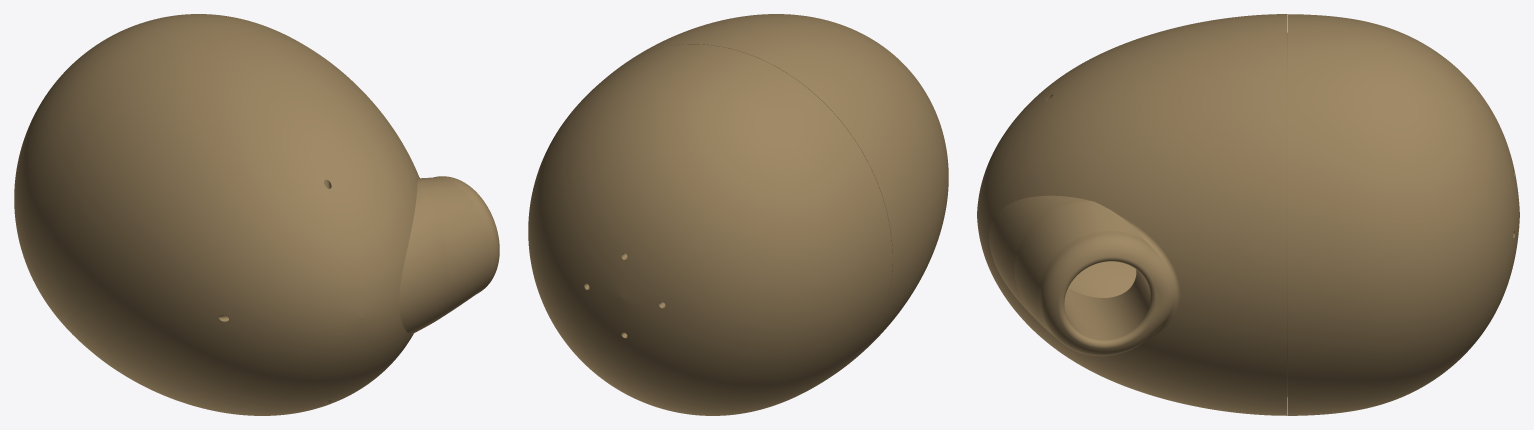
Rendered from nestegg.glb.
The picture shows the model from 3 angles, left to right: view 1: azimuth 30°, elevation 25°; view 2: azimuth 150°, elevation 25°; view 3: azimuth 270°, elevation 25°; orthographic projection. The views are drawn at different scales.
Parts seen in each view (by area): view 1: Asset3DLoader.sceneRoot; view 2: Asset3DLoader.sceneRoot; view 3: Asset3DLoader.sceneRoot.
Part boxes in pixels (box(x1,y1,x2,y2)): Asset3DLoader.sceneRoot: box(14, 14, 499, 415); Asset3DLoader.sceneRoot: box(528, 14, 948, 415); Asset3DLoader.sceneRoot: box(977, 14, 1519, 415).
Size of the model in its own units: 182 by 176 by 237.
